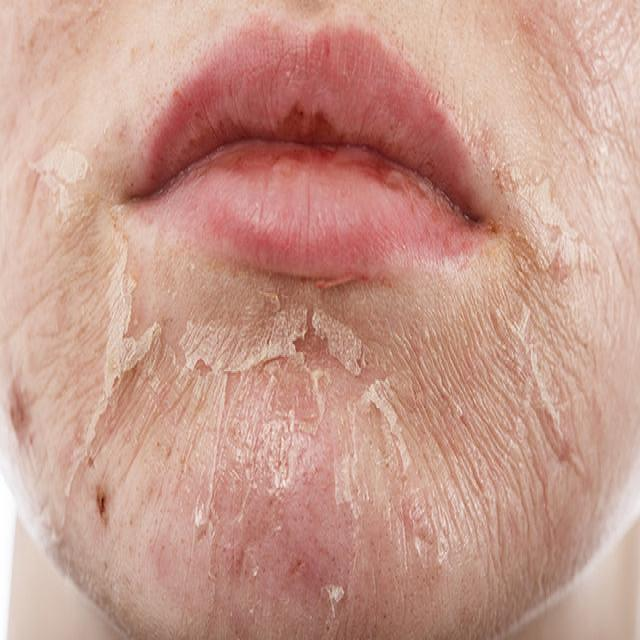Dry-Skin: (35, 205, 562, 574)
